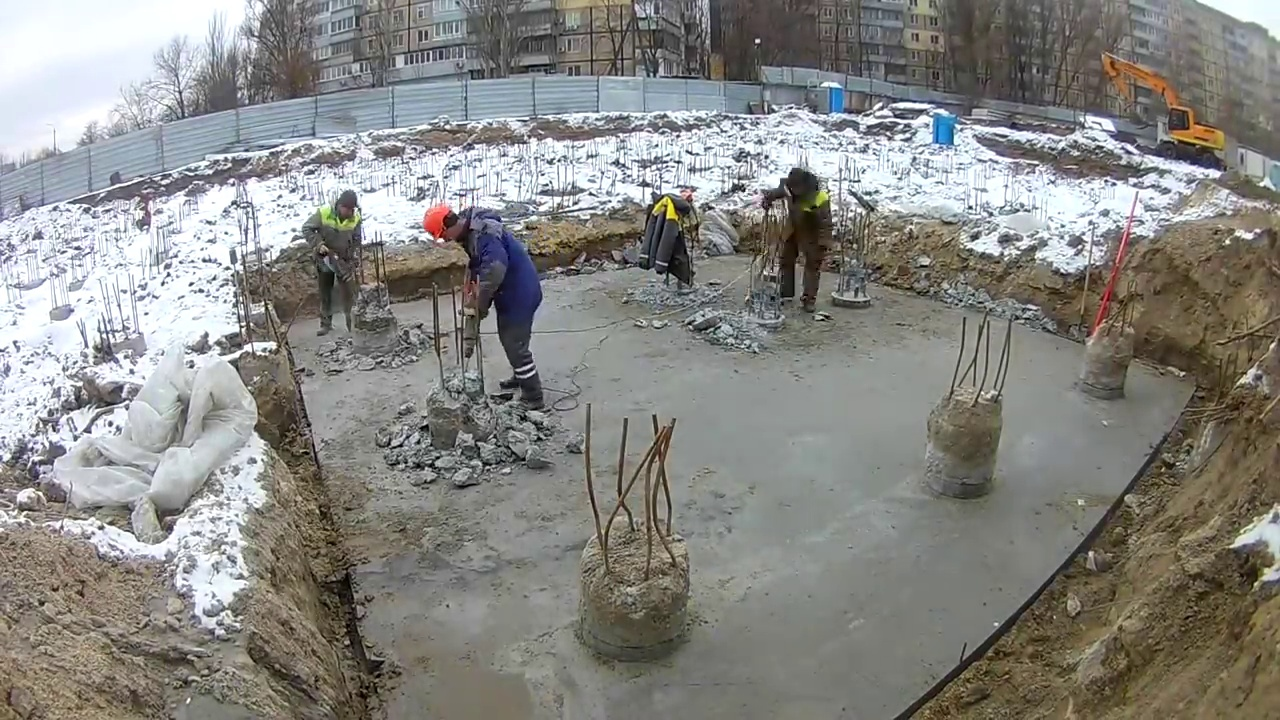helmet: (423, 205, 451, 242), (679, 190, 693, 206)
helmet-off: (785, 167, 817, 200), (335, 190, 357, 223)
helmet-on: (422, 205, 467, 242)
person: (423, 205, 545, 412), (761, 167, 833, 313), (302, 189, 365, 338)
